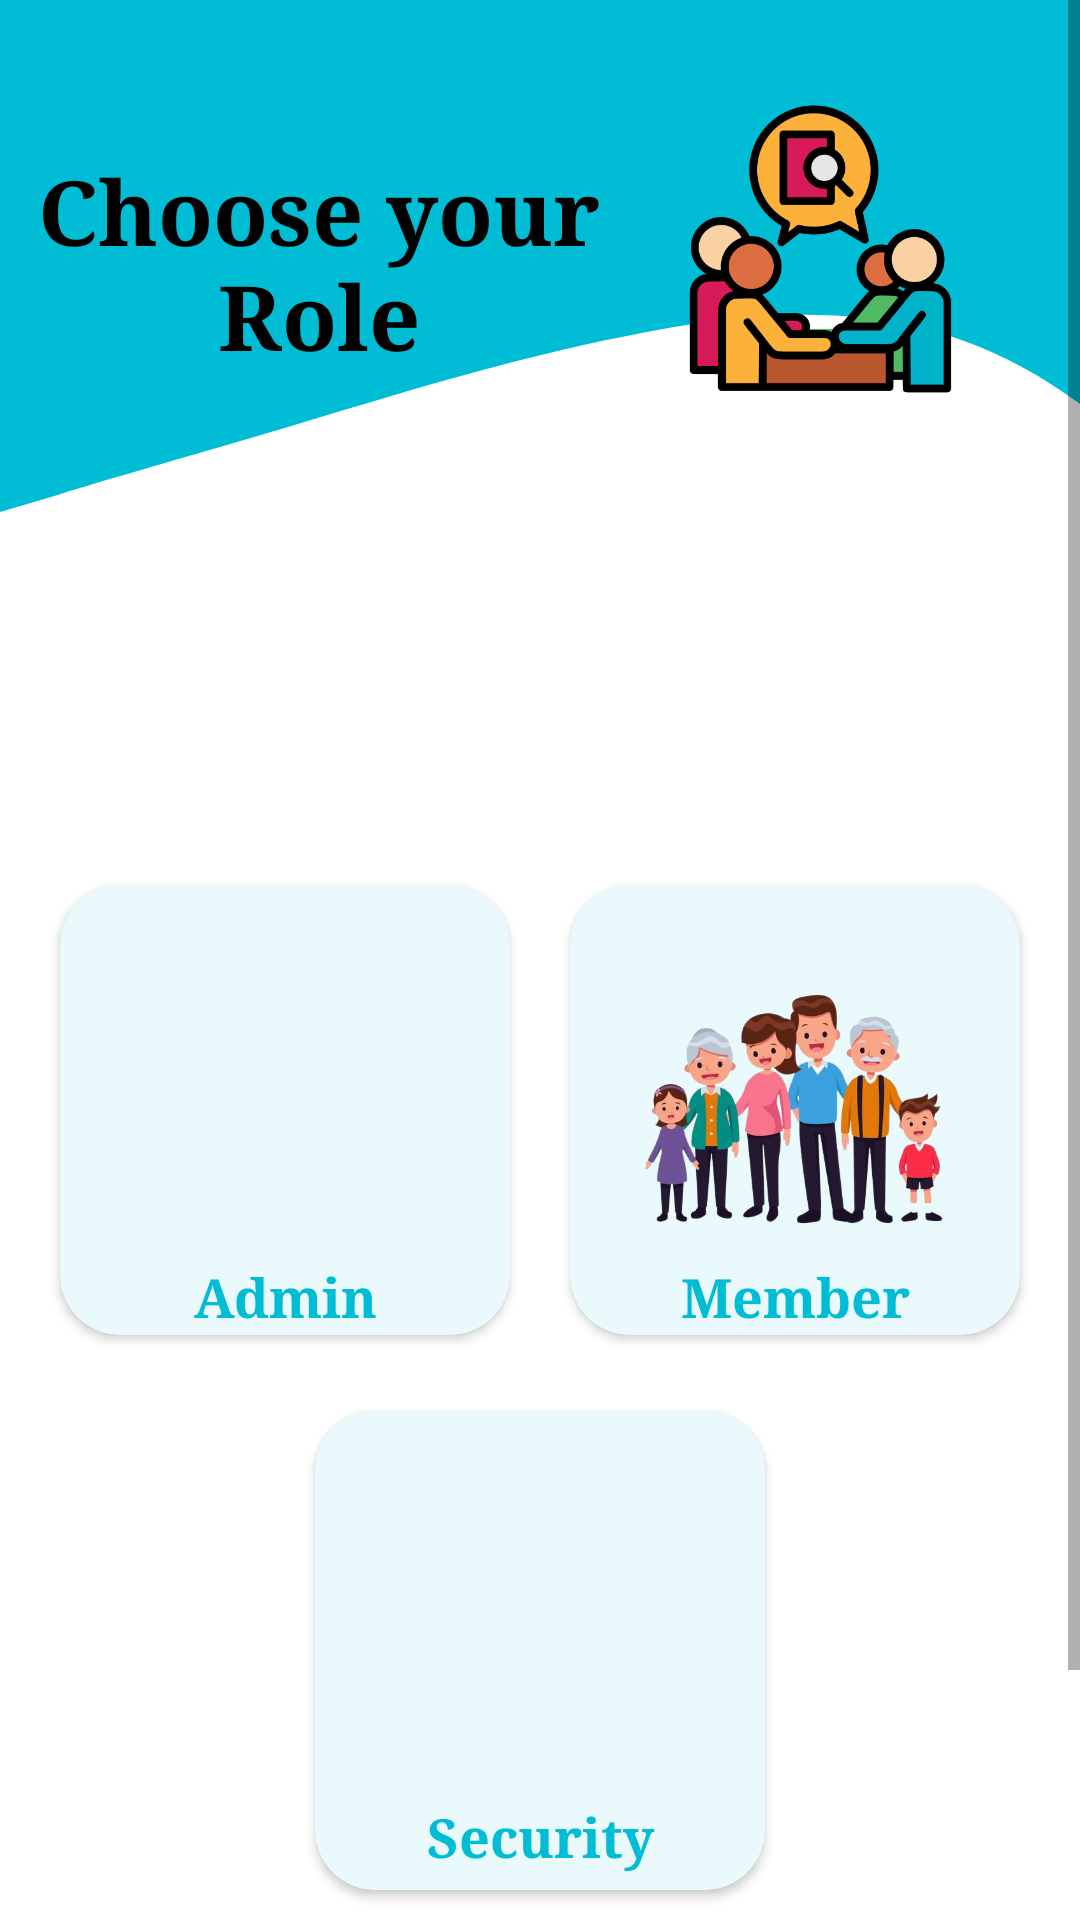

Where icons sit on this 1080 × 1920 app screen, as (x1, y1, x2, y2):
family: (645, 995, 943, 1223)
